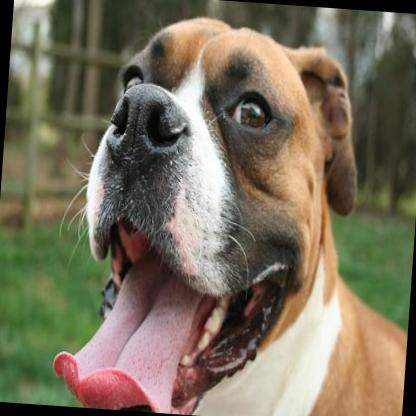boxer: (46, 1, 416, 416)
